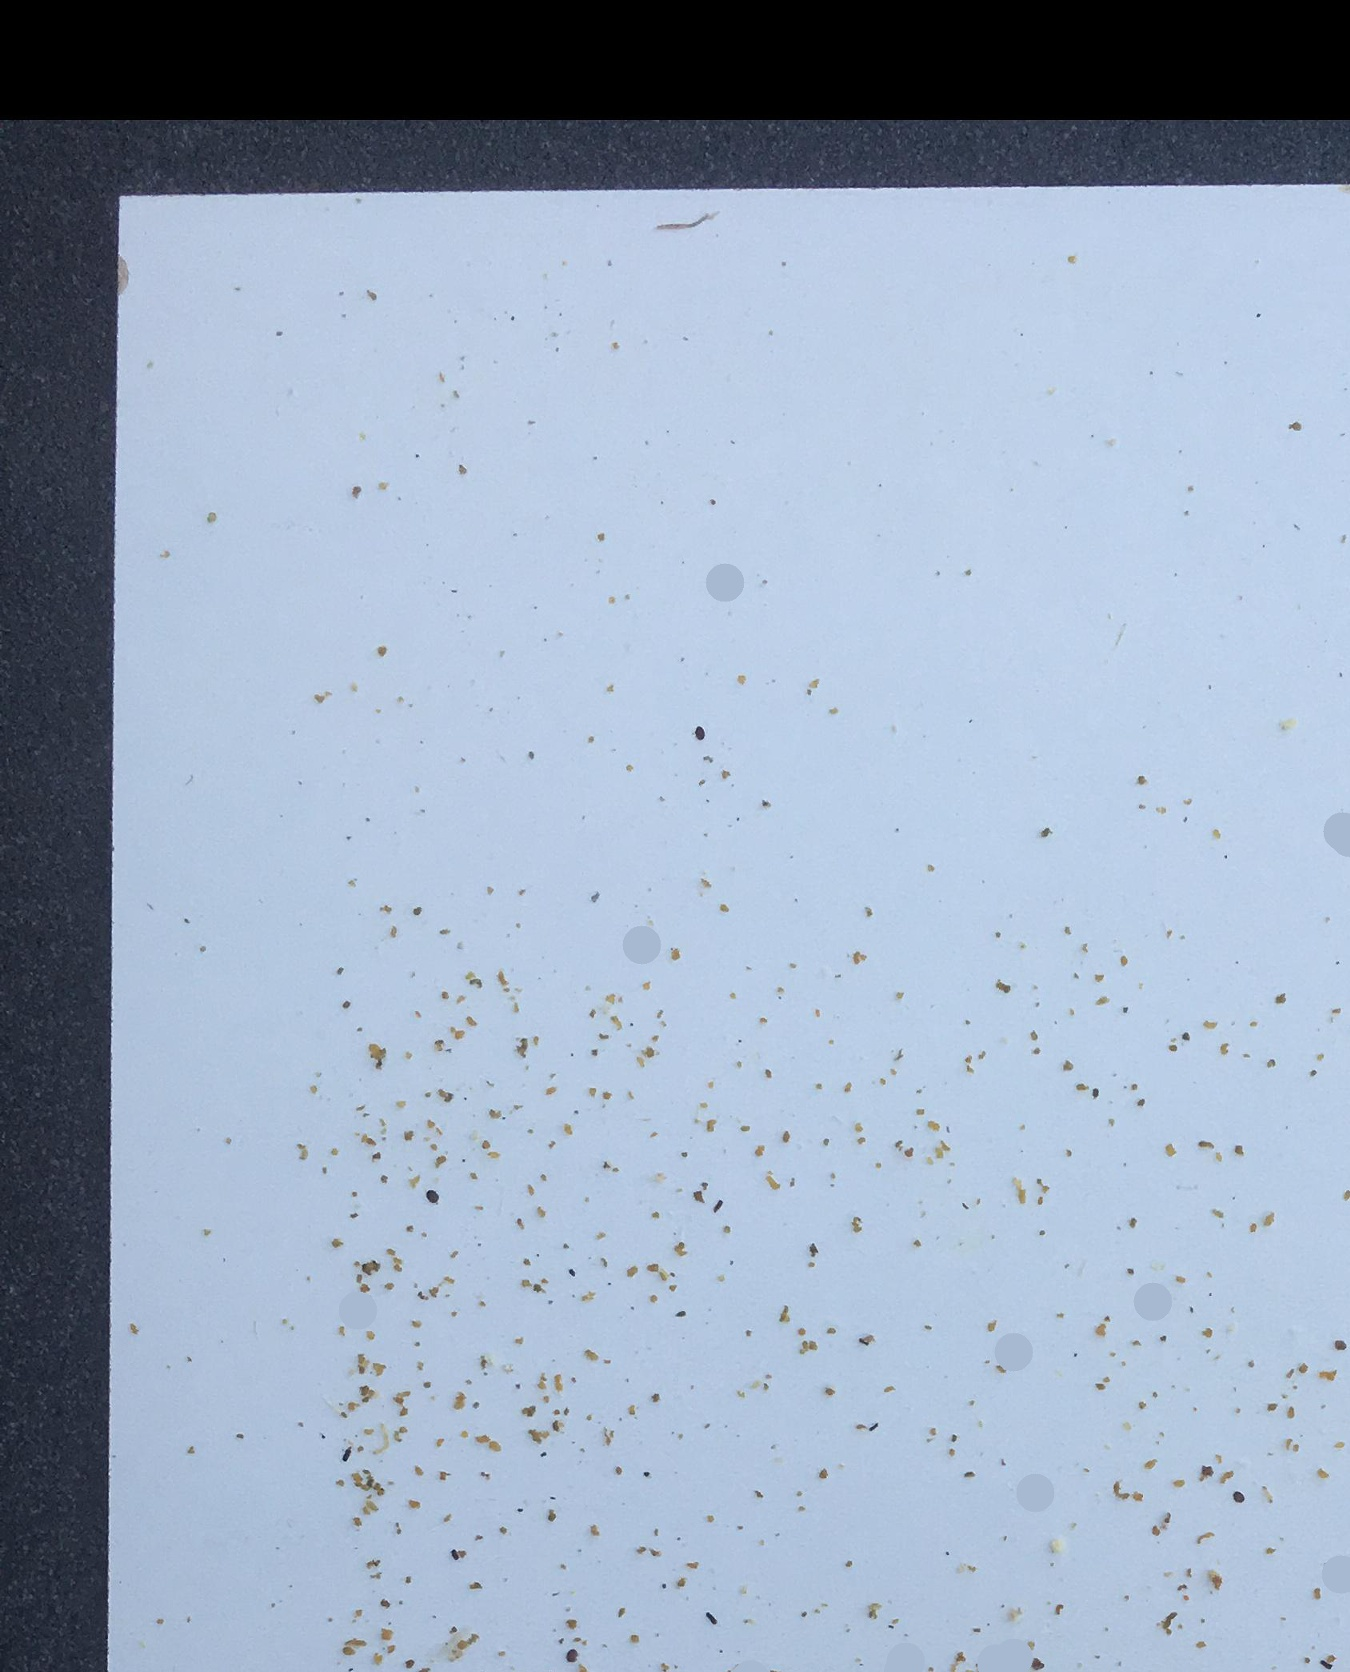Varroa: (423, 1184, 441, 1206), (565, 1649, 581, 1665), (693, 726, 708, 742), (1232, 1489, 1247, 1505)
